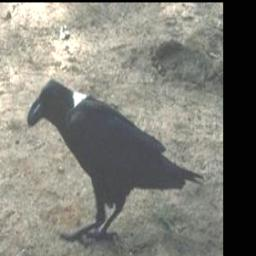Crow: (27, 76, 207, 246)
